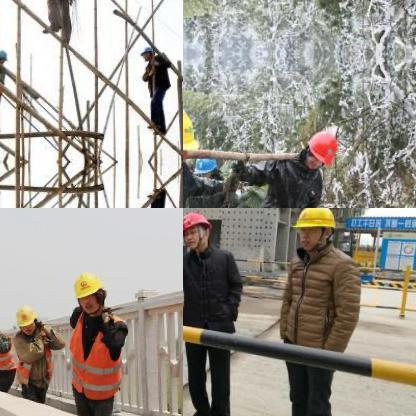Helmet: (292, 208, 338, 253), (69, 262, 107, 315), (300, 122, 340, 172), (183, 208, 212, 252), (183, 98, 199, 172), (12, 300, 38, 334), (194, 148, 218, 178), (138, 43, 154, 61), (0, 45, 9, 67)
